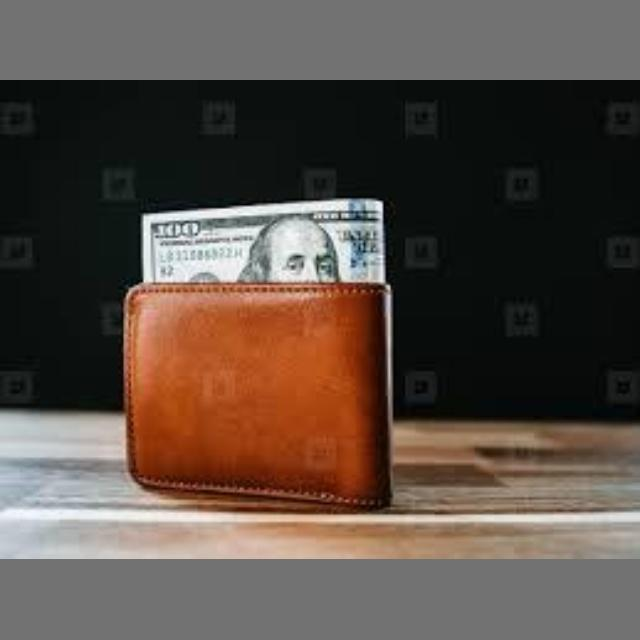Wallet: (114, 272, 430, 536)
